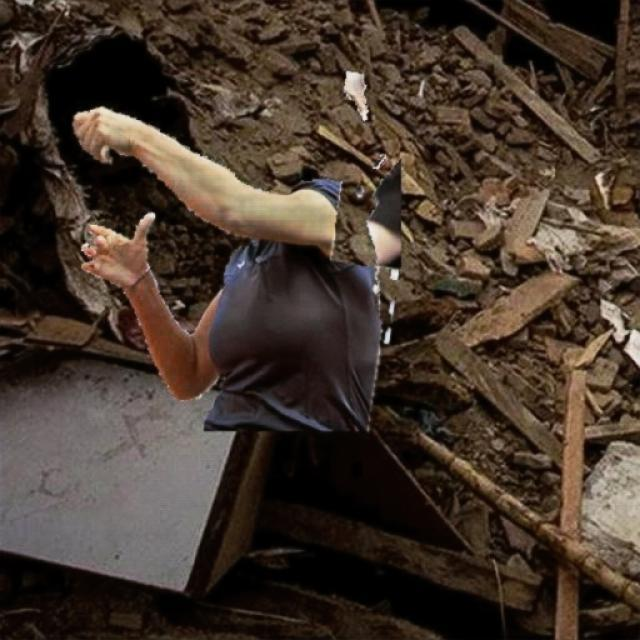Person in Rubble: (72, 71, 400, 430)
